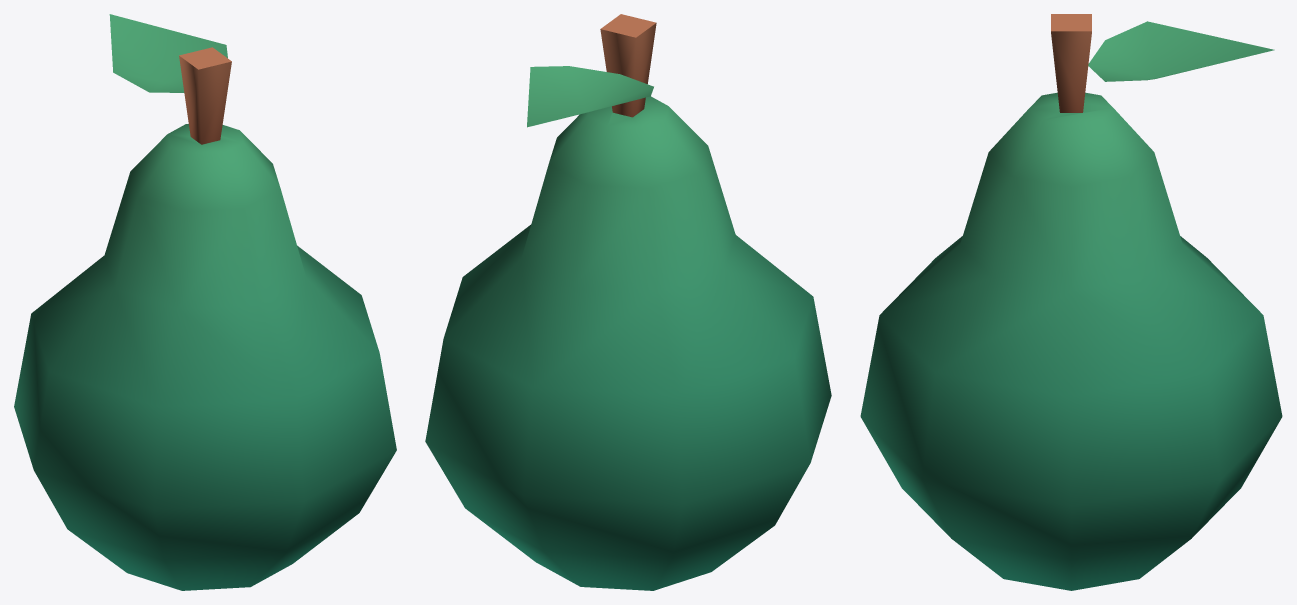
File: pear.glb
3 renders of one model, left to right at view 1: azimuth 30°, elevation 25°; view 2: azimuth 150°, elevation 25°; view 3: azimuth 270°, elevation 25°, orthographic. The views are drawn at different scales.
Parts seen in each view (by area): view 1: pear; view 2: pear; view 3: pear.
Part boxes in pixels (<box>): pear: <box>14,14,396,590</box>; pear: <box>425,14,831,590</box>; pear: <box>860,14,1282,590</box>.
Bounding box in the file's own units: 0.1963 × 0.2708 × 0.1963.
